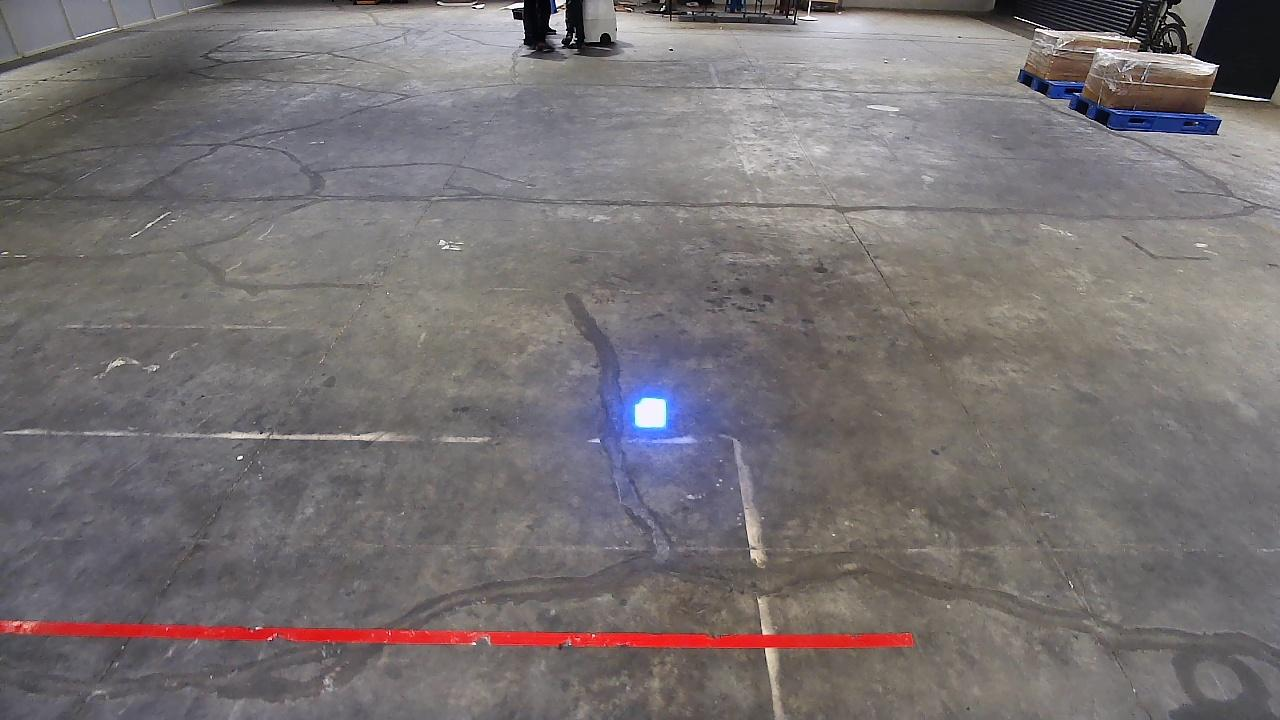red_line: (1, 618, 922, 645)
